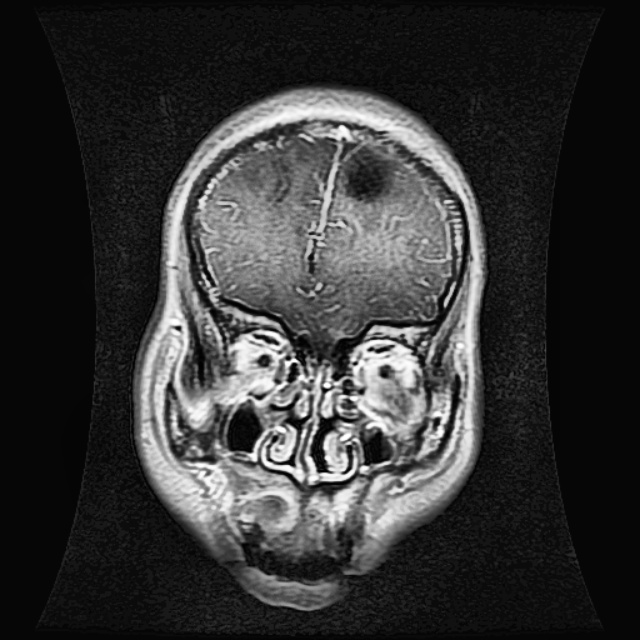Meningioma: (339, 139, 397, 205)
